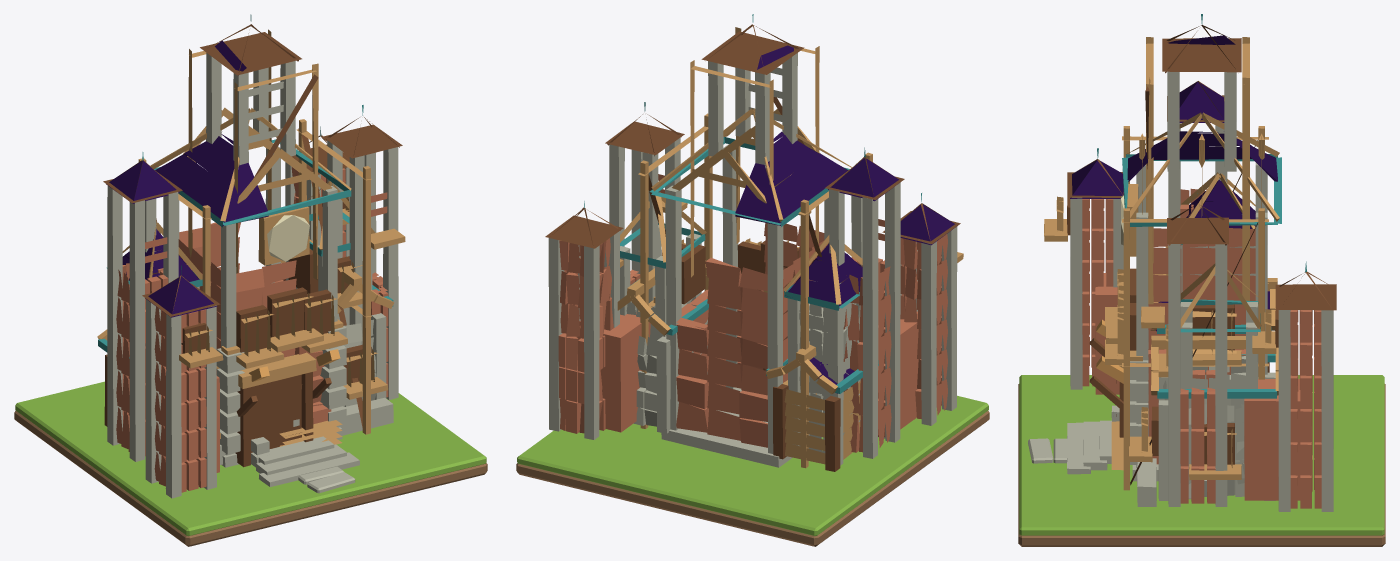
File: town_hall_l15_construction_LOD2.glb
The picture shows the model from 3 angles, left to right: view 1: azimuth 30°, elevation 25°; view 2: azimuth 150°, elevation 25°; view 3: azimuth 270°, elevation 25°; orthographic projection. The views are drawn at different scales.
Visible parts, largest first — view 1: town_hall_l15_construction_foundation.001, town_hall_l15_construction_grass_tile.001, town_hall_l15_construction_earth_tile.001, town_hall_l15_construction_path_stone.005; view 2: town_hall_l15_construction_foundation.001, town_hall_l15_construction_grass_tile.001, town_hall_l15_construction_earth_tile.001; view 3: town_hall_l15_construction_foundation.001, town_hall_l15_construction_grass_tile.001, town_hall_l15_construction_earth_tile.001, town_hall_l15_construction_path_stone.005.
Boxes of the visible parts, x1,y1,x2,y2 form: town_hall_l15_construction_foundation.001: (97, 14, 405, 498); town_hall_l15_construction_grass_tile.001: (15, 381, 486, 535); town_hall_l15_construction_earth_tile.001: (14, 411, 487, 546); town_hall_l15_construction_path_stone.005: (307, 472, 355, 493); town_hall_l15_construction_foundation.001: (545, 14, 963, 471); town_hall_l15_construction_grass_tile.001: (517, 395, 988, 535); town_hall_l15_construction_earth_tile.001: (516, 411, 989, 546); town_hall_l15_construction_foundation.001: (1044, 14, 1336, 511); town_hall_l15_construction_grass_tile.001: (1019, 375, 1384, 535); town_hall_l15_construction_earth_tile.001: (1018, 384, 1385, 546); town_hall_l15_construction_path_stone.005: (1028, 438, 1053, 463).
Size of the model in its own units: 3.6 by 4.94 by 3.6.
